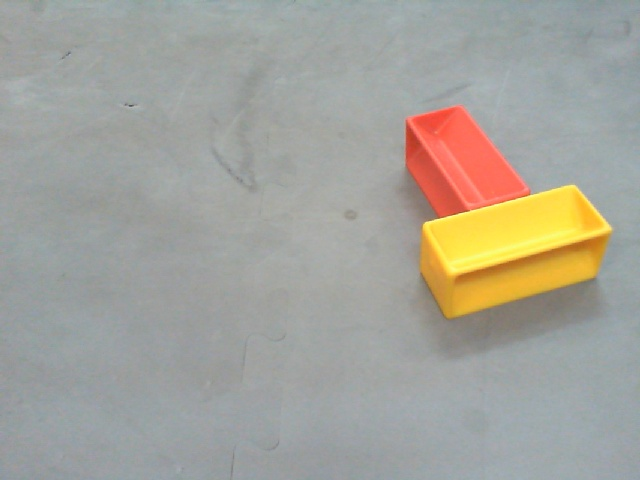RedSample: (405, 104, 531, 219)
YellowSample: (419, 185, 612, 319)
